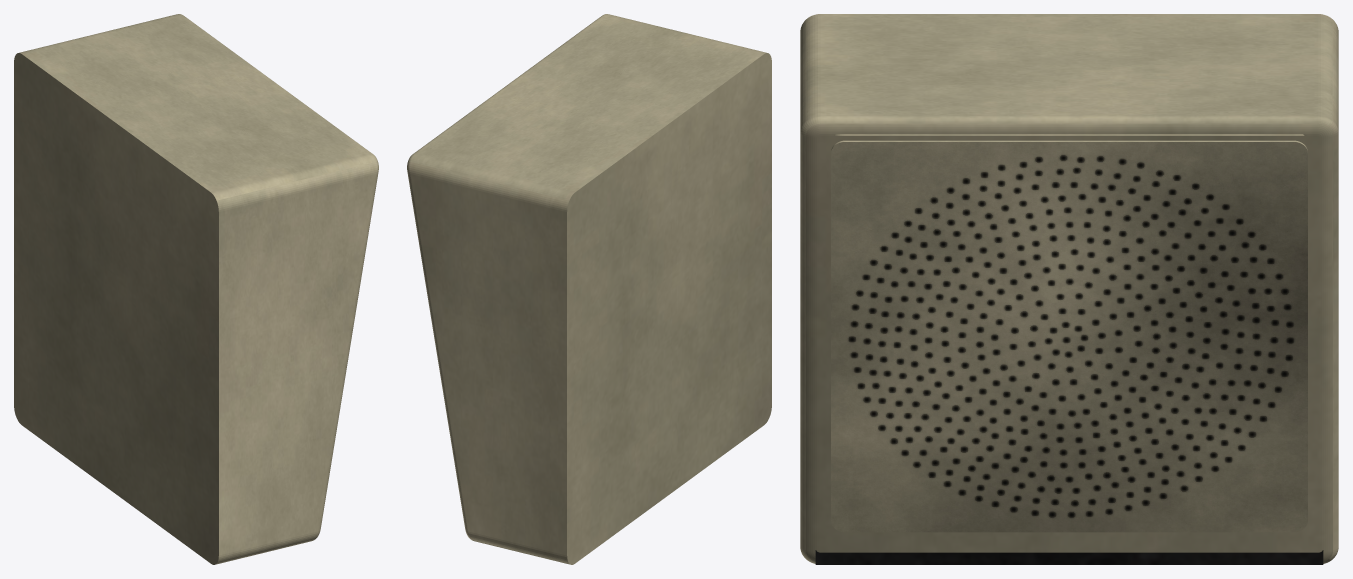
The model's file is PA_Speaker_dirty_wt.fbx.
3 views of the same model, side by side, from view 1: azimuth 30°, elevation 25°; view 2: azimuth 150°, elevation 25°; view 3: azimuth 270°, elevation 25° (orthographic). The views are drawn at different scales.
Parts seen in each view (by area): view 1: Speaker; view 2: Speaker; view 3: Speaker, Plane.
Part boxes in pixels (x1=…): Speaker: x1=14, y1=14, x2=378, y2=564; Speaker: x1=407, y1=14, x2=771, y2=564; Speaker: x1=800, y1=14, x2=1338, y2=563; Plane: x1=815, y1=550, x2=1323, y2=564.
Bounding box in the file's own units: 16.29 × 35 × 35.
Materials: 2 (2 with a texture image).
